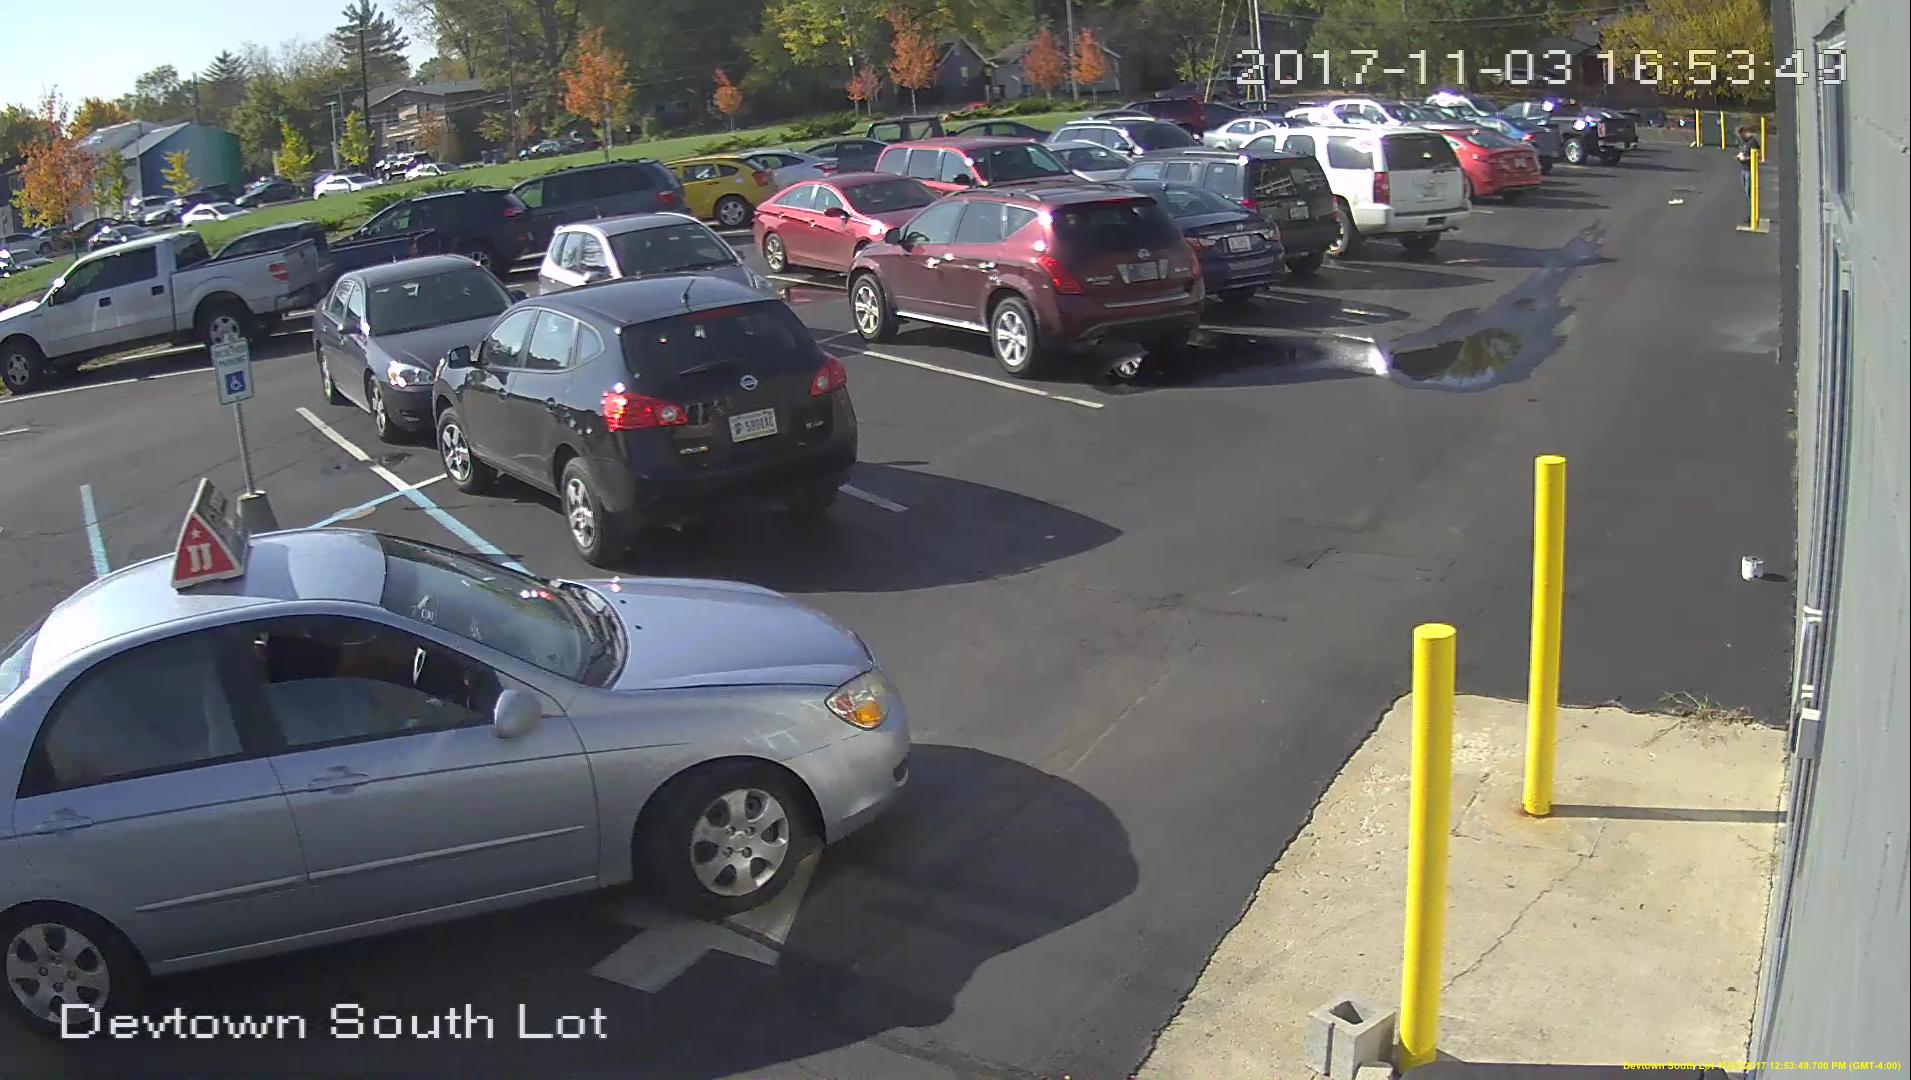jimmy_johns: (161, 471, 255, 593)
